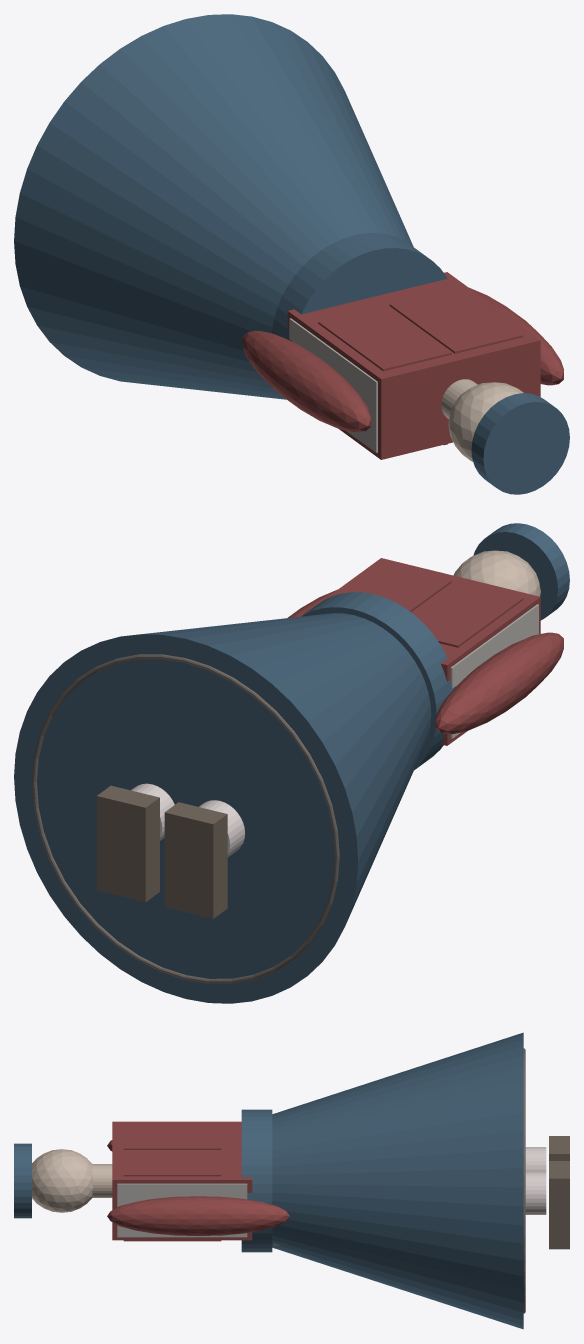
Rendered from MASTER_086_STAGE3_DETAIL.glb.
3 renders of one model, top to bottom at view 1: azimuth 30°, elevation 25°; view 2: azimuth 150°, elevation 25°; view 3: azimuth 270°, elevation 25°, orthographic. The views are drawn at different scales.
Visible parts, largest first — view 1: slot_lower_main__fund_i_gjatë, slot_upper_inner__këmishë, slot_waist__brez, slot_headwear__mbulesë_koke, slot_upper_inner_sleeve_L, slot_upper_outer__jelek_R, slot_upper_outer__jelek_L, mannequin_torso, mannequin_head, slot_upper_inner_sleeve_R, mannequin_neck; view 2: slot_lower_main__fund_i_gjatë, slot_footwear__opinga_L, slot_footwear__opinga_R, slot_upper_inner_sleeve_L, slot_waist__brez, detail_skirt_hem, slot_upper_outer__jelek_L, slot_headwear__mbulesë_koke, slot_upper_inner__këmishë, slot_upper_outer__jelek_R, mannequin_head, mannequin_torso (+2 smaller); view 3: slot_lower_main__fund_i_gjatë, slot_upper_inner_sleeve_R, slot_upper_inner__këmishë, slot_waist__brez, mannequin_head, slot_upper_outer__jelek_R, mannequin_torso, slot_upper_outer__jelek_L, slot_footwear__opinga_R, slot_headwear__mbulesë_koke, slot_legwear__çorape_R, detail_skirt_hem (+3 smaller).
Part boxes in pixels (<box>): slot_lower_main__fund_i_gjatë: <box>14,14,413,399</box>; slot_upper_inner__këmishë: <box>287,272,540,459</box>; slot_waist__brez: <box>271,233,447,341</box>; slot_headwear__mbulesë_koke: <box>471,393,569,494</box>; slot_upper_inner_sleeve_L: <box>242,330,371,432</box>; slot_upper_outer__jelek_R: <box>389,287,523,353</box>; slot_upper_outer__jelek_L: <box>318,305,451,371</box>; mannequin_torso: <box>289,318,377,452</box>; mannequin_head: <box>448,382,523,461</box>; slot_upper_inner_sleeve_R: <box>469,287,563,385</box>; mannequin_neck: <box>441,379,477,418</box>; slot_lower_main__fund_i_gjatë: <box>14,613,431,1003</box>; slot_footwear__opinga_L: <box>164,802,227,918</box>; slot_footwear__opinga_R: <box>96,785,159,902</box>; slot_upper_inner_sleeve_L: <box>435,632,563,734</box>; slot_waist__brez: <box>301,592,455,770</box>; detail_skirt_hem: <box>32,654,339,983</box>; slot_upper_outer__jelek_L: <box>412,581,523,647</box>; slot_headwear__mbulesë_koke: <box>473,523,569,620</box>; slot_upper_inner__këmishë: <box>323,558,540,745</box>; slot_upper_outer__jelek_R: <box>344,564,451,611</box>; mannequin_head: <box>453,550,540,596</box>; mannequin_torso: <box>450,604,538,738</box>; slot_lower_main__fund_i_gjatë: <box>272,1032,523,1329</box>; slot_upper_inner_sleeve_R: <box>107,1196,289,1235</box>; slot_upper_inner__këmishë: <box>112,1121,252,1240</box>; slot_waist__brez: <box>241,1109,272,1252</box>; mannequin_head: <box>32,1149,93,1212</box>; slot_upper_outer__jelek_R: <box>123,1150,221,1241</box>; mannequin_torso: <box>117,1183,247,1237</box>; slot_upper_outer__jelek_L: <box>123,1123,221,1149</box>; slot_footwear__opinga_R: <box>549,1161,569,1249</box>; slot_headwear__mbulesë_koke: <box>14,1143,31,1218</box>; slot_legwear__çorape_R: <box>525,1171,546,1214</box>; detail_skirt_hem: <box>523,1048,525,1313</box>.
Size of the model in its own units: 0.9144 by 0.9144 by 1.71.
